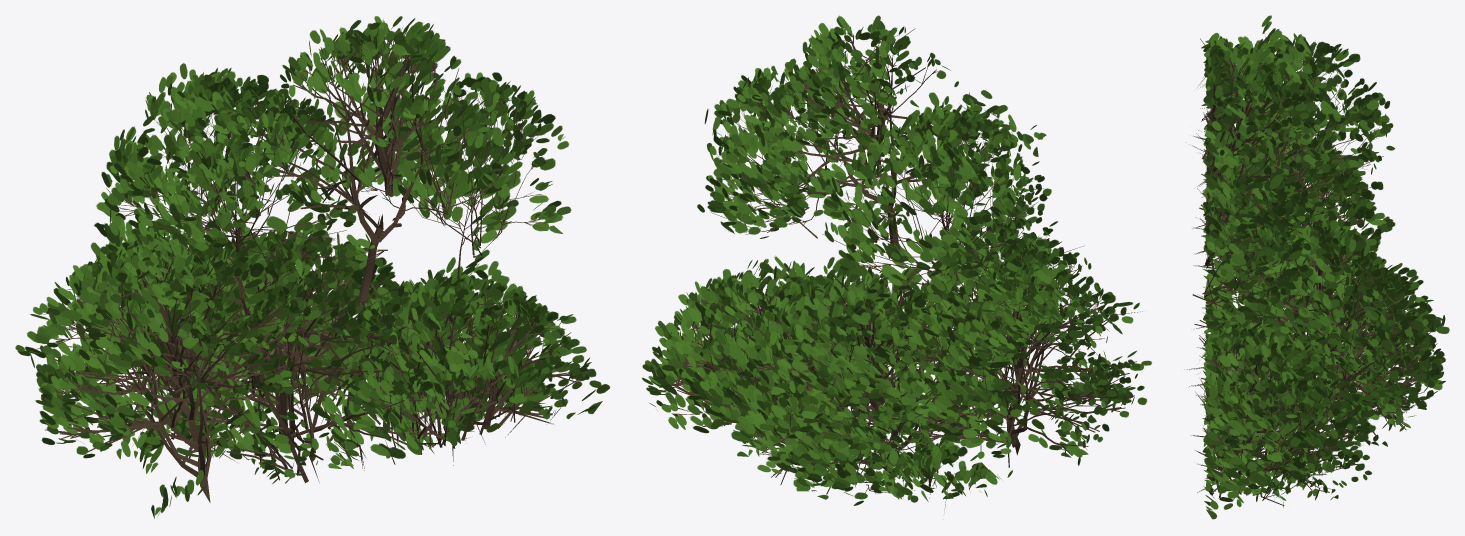
3 views of the same model, side by side, from view 1: azimuth 30°, elevation 25°; view 2: azimuth 150°, elevation 25°; view 3: azimuth 270°, elevation 25° (orthographic). The views are drawn at different scales.
Parts seen in each view (by area): view 1: oak 01.001_trunk_Mat.001_0.244; view 2: oak 01.001_trunk_Mat.001_0.244; view 3: oak 01.001_trunk_Mat.001_0.244.
Boxes of the visible parts, left/top/right/bottom form: oak 01.001_trunk_Mat.001_0.244: left=15, top=16, right=609, bottom=518; oak 01.001_trunk_Mat.001_0.244: left=642, top=15, right=1151, bottom=509; oak 01.001_trunk_Mat.001_0.244: left=1184, top=15, right=1449, bottom=519.
Size of the model in its own units: 4.65 by 3.75 by 2.26.
2 materials, 1 textured.
